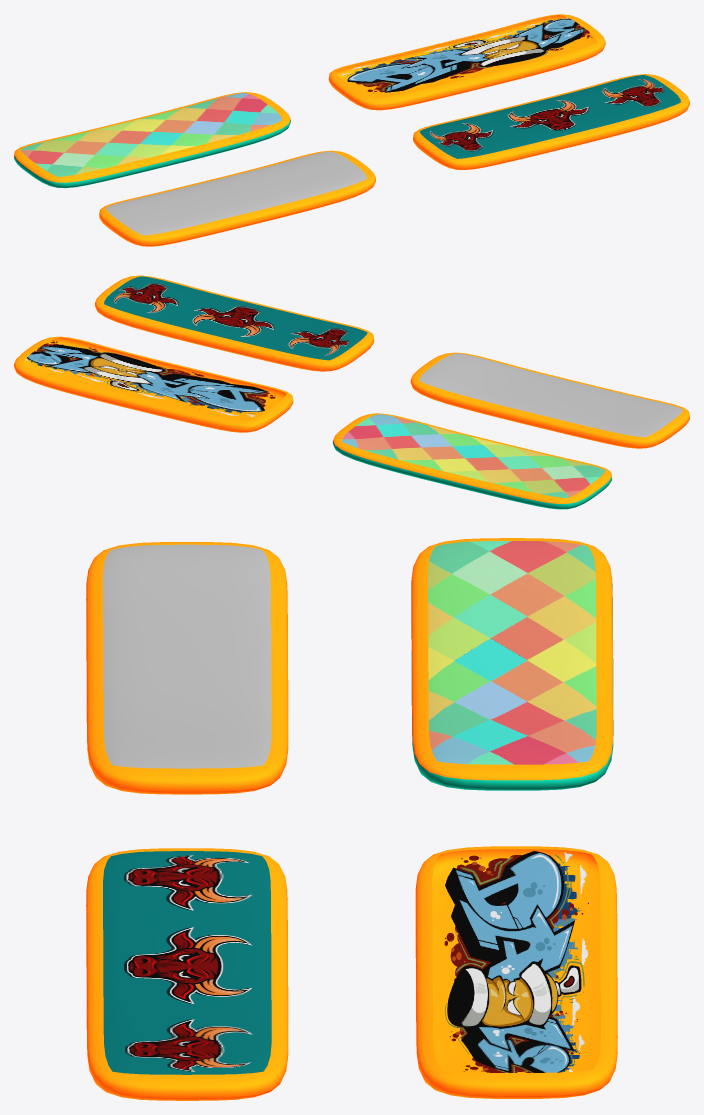
File: board (1).fbx
3 renders of one model, top to bottom at view 1: azimuth 30°, elevation 25°; view 2: azimuth 150°, elevation 25°; view 3: azimuth 270°, elevation 25°, orthographic. The views are drawn at different scales.
Parts seen in each view (by area): view 1: board.003, board.001, board, board.002; view 2: board.003, board.001, board.002, board; view 3: board, board.002, board.001, board.003.
Boxes of the visible parts, bbox=[...] form: board.003: bbox=[99, 150, 375, 246]; board.001: bbox=[328, 14, 605, 110]; board: bbox=[14, 92, 290, 188]; board.002: bbox=[413, 74, 689, 169]; board.003: bbox=[410, 352, 689, 448]; board.001: bbox=[14, 336, 293, 432]; board.002: bbox=[95, 275, 374, 371]; board: bbox=[332, 413, 612, 509]; board: bbox=[411, 538, 613, 790]; board.002: bbox=[86, 848, 288, 1100]; board.001: bbox=[415, 846, 617, 1098]; board.003: bbox=[86, 542, 288, 794].
Bounding box in the file's own units: 859 × 23.96 × 348.
